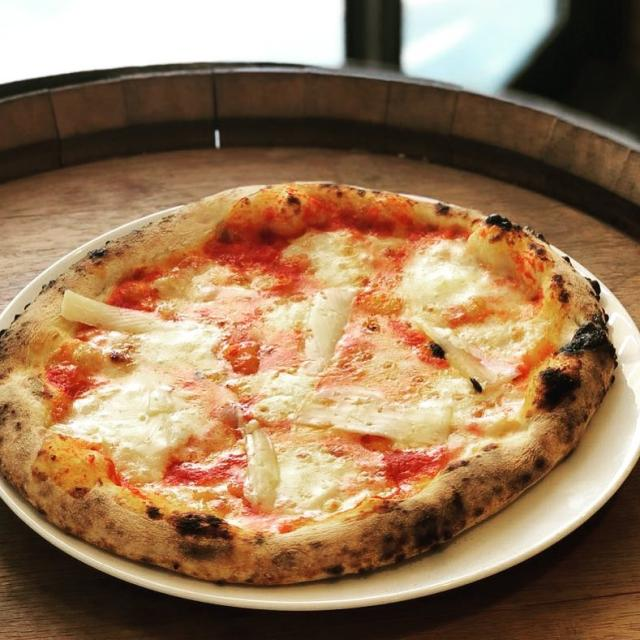pizza: (0, 184, 616, 584)
